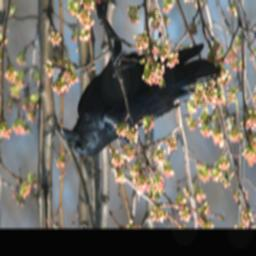Crow: (55, 4, 218, 162)
